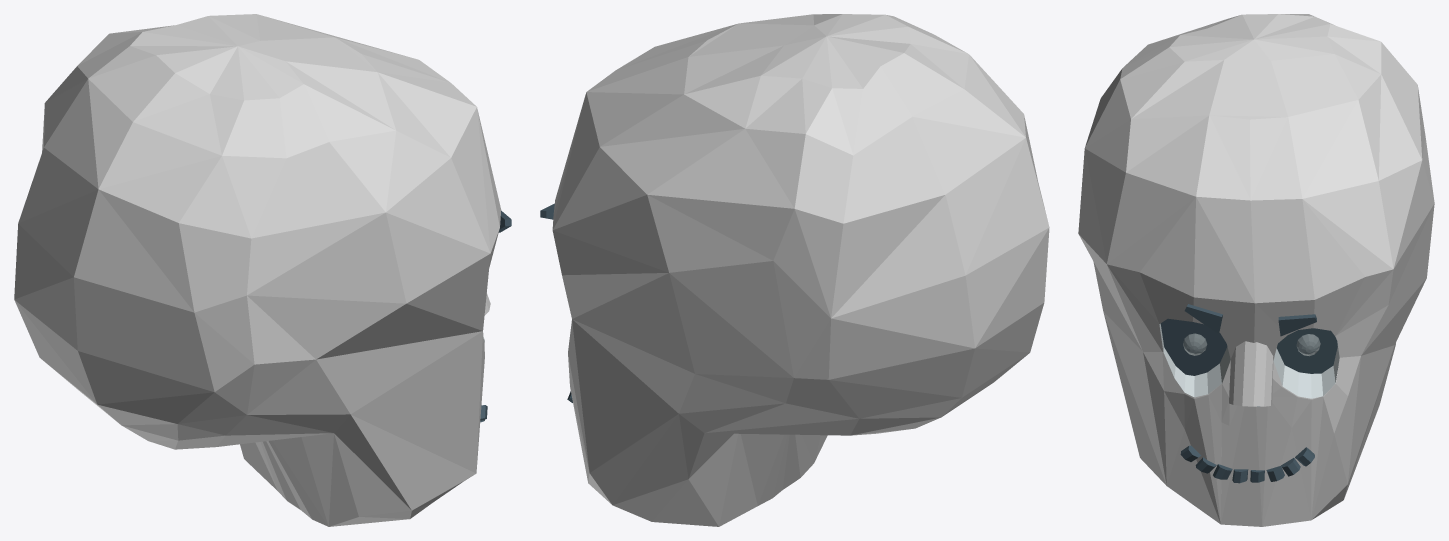
The model's file is scene_aXuVY2WAAR.glb.
3 views of the same model, side by side, from view 1: azimuth 30°, elevation 25°; view 2: azimuth 150°, elevation 25°; view 3: azimuth 270°, elevation 25° (orthographic). The views are drawn at different scales.
Parts seen in each view (by area): view 1: group278815475; view 2: group278815475; view 3: group278815475, group2082116179, group1002262380, group1260413703, group50761348, group1923668892, group228953910, group1107014538.
Boxes of the visible parts, left/top/right/bottom form: group278815475: left=14, top=14, right=501, bottom=526; group278815475: left=552, top=14, right=1049, bottom=526; group278815475: left=1078, top=14, right=1434, bottom=526; group2082116179: left=1160, top=318, right=1227, bottom=375; group1002262380: left=1229, top=341, right=1274, bottom=406; group1260413703: left=1277, top=328, right=1338, bottom=373; group50761348: left=1184, top=304, right=1222, bottom=333; group1923668892: left=1278, top=314, right=1316, bottom=336; group228953910: left=1183, top=333, right=1206, bottom=355; group1107014538: left=1296, top=334, right=1320, bottom=355.
Size of the model in its own units: 1.05 by 1.08 by 0.8698.
